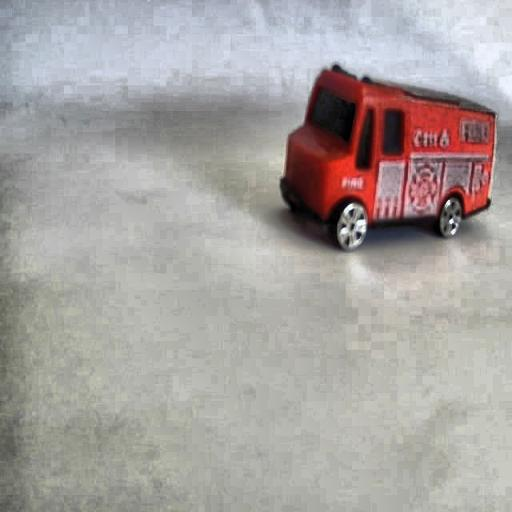fire_truck: (277, 64, 492, 249)
